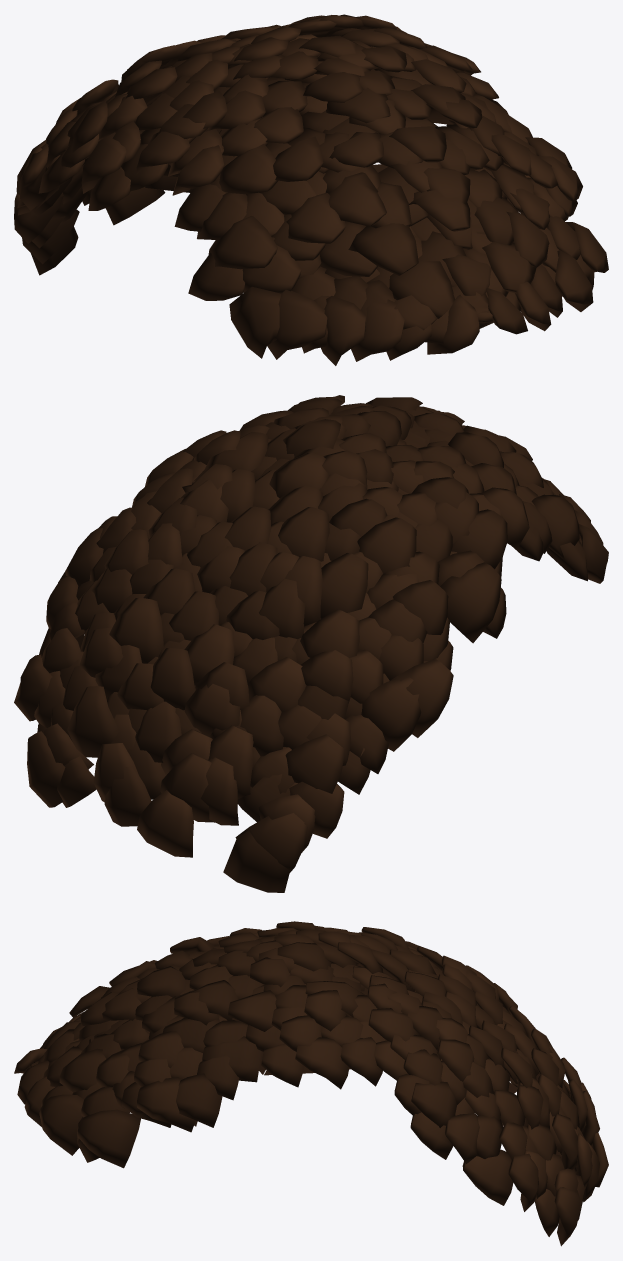
Rendered from kopf.haar.militaer.glb.
3 views of the same model, one above another, from view 1: azimuth 30°, elevation 25°; view 2: azimuth 150°, elevation 25°; view 3: azimuth 270°, elevation 25° (orthographic). The views are drawn at different scales.
Visible parts, largest first — view 1: haar; view 2: haar; view 3: haar.
Boxes of the visible parts, box(x1,y1,x2,y2) form: haar: box(14, 14, 608, 365); haar: box(14, 395, 608, 892); haar: box(14, 921, 608, 1246).
Size of the model in its own units: 0.129 by 0.0978 by 0.1954.
